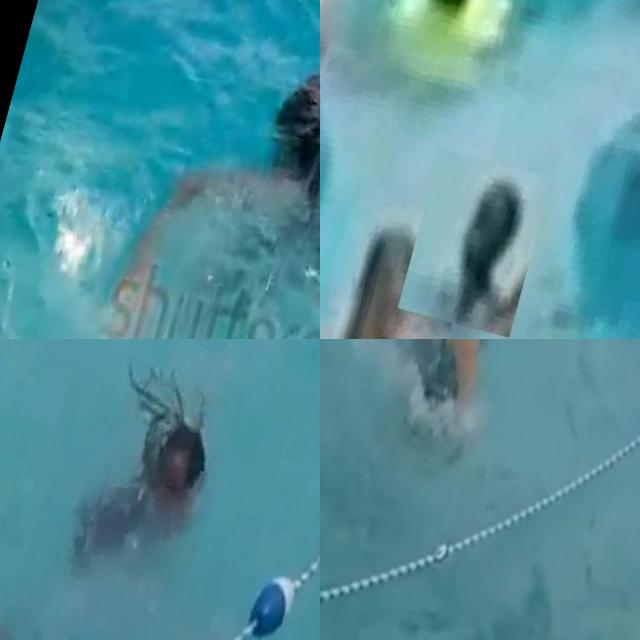drowning: (44, 339, 260, 607), (198, 0, 320, 339), (397, 148, 553, 339), (343, 339, 557, 473)
swimming: (362, 0, 561, 127), (569, 10, 640, 327), (320, 210, 452, 339)
